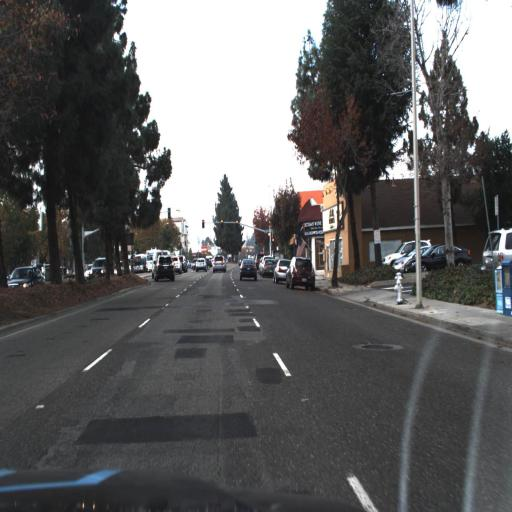car: (410, 240, 474, 272), (380, 238, 432, 266), (284, 253, 317, 297), (4, 263, 46, 294), (151, 254, 178, 286), (86, 252, 110, 282), (235, 256, 259, 282), (273, 255, 291, 289), (259, 254, 279, 281), (260, 254, 277, 279), (210, 253, 227, 275), (194, 258, 207, 271)
